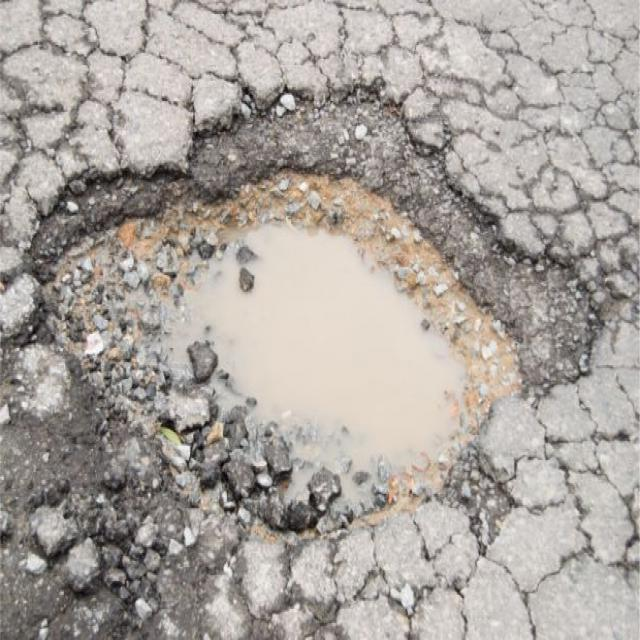Pothole: (19, 61, 616, 554)
